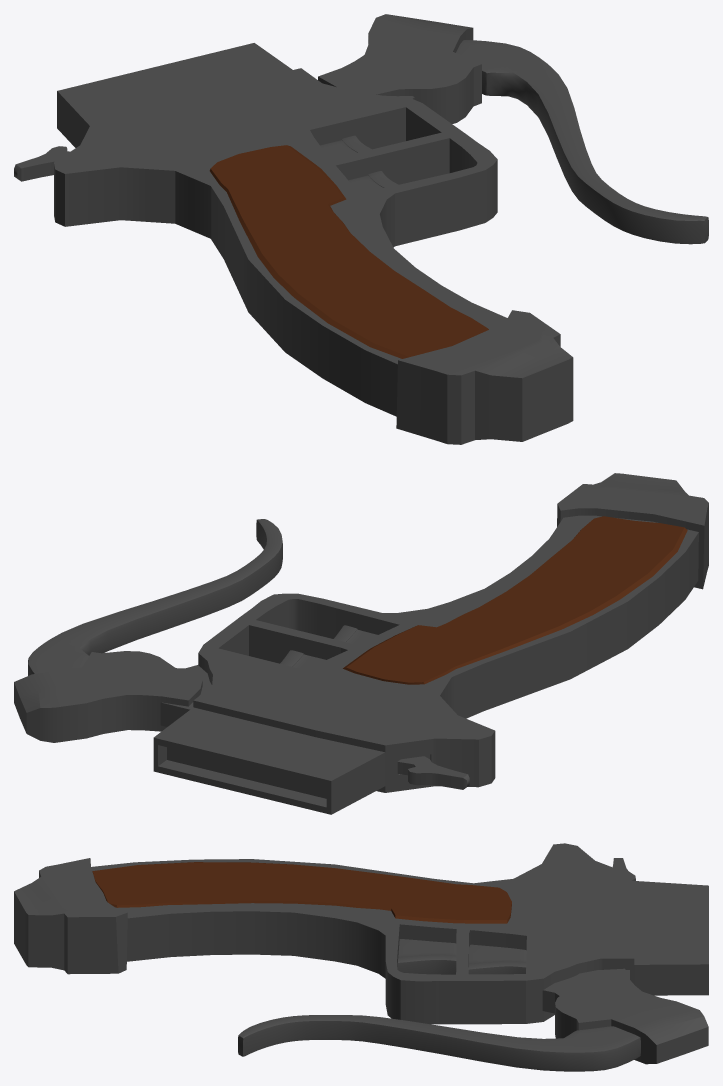
The model's file is odmHandle.glb.
The picture shows the model from 3 angles, top to bottom: view 1: azimuth 30°, elevation 25°; view 2: azimuth 150°, elevation 25°; view 3: azimuth 270°, elevation 25°; orthographic projection. The views are drawn at different scales.
Parts seen in each view (by area): view 1: Cube; view 2: Cube; view 3: Cube.
Boxes of the visible parts, bbox=[...] form: Cube: bbox=[14, 14, 708, 444]; Cube: bbox=[14, 473, 708, 814]; Cube: bbox=[14, 843, 708, 1071].
Size of the model in its own units: 2.74 by 0.3637 by 4.02.
